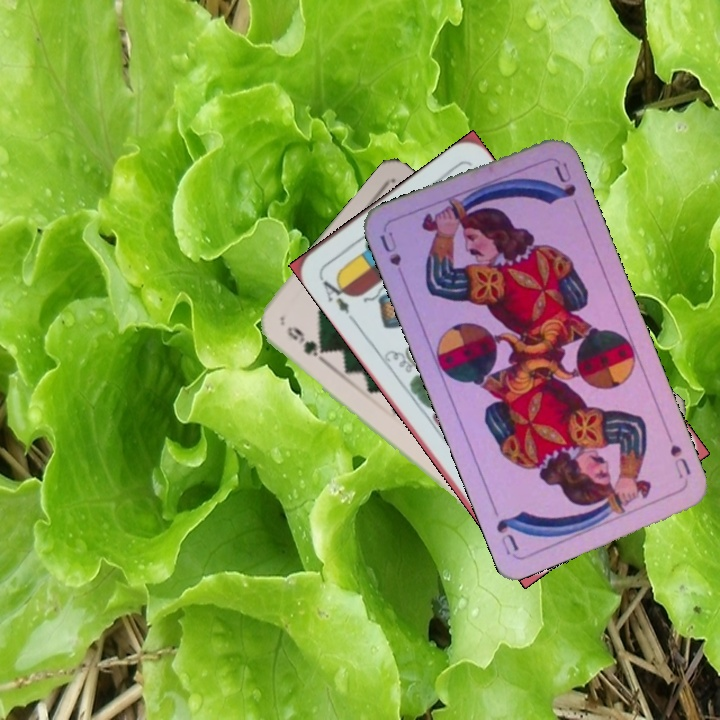EA: (315, 272, 357, 323)
G9: (282, 322, 328, 364)
SU: (375, 228, 409, 285), (662, 429, 694, 482)
